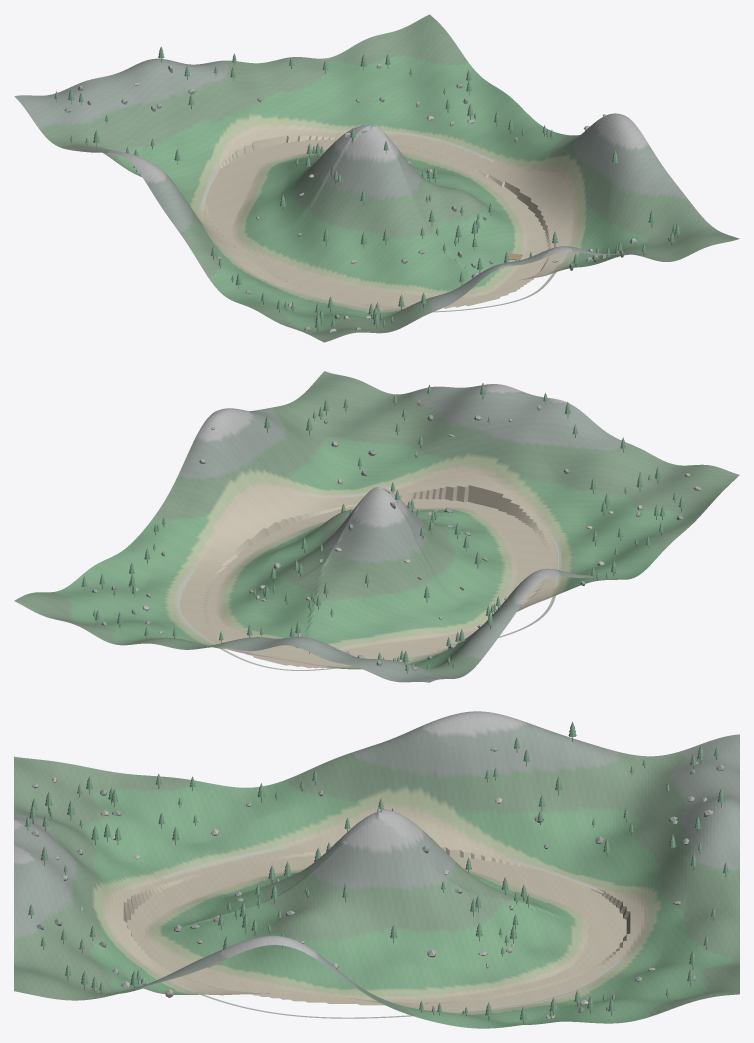
Rendered from thung-lung-song-vong-tron-3d.glb.
3 views of the same model, one above another, from view 1: azimuth 30°, elevation 25°; view 2: azimuth 150°, elevation 25°; view 3: azimuth 270°, elevation 25° (orthographic). The views are drawn at different scales.
Visible parts, largest first — view 1: Valley_Terrain_Loop_Riverbed, PineCrowns, Rocks, Closed_River_Inner_Beach; view 2: Valley_Terrain_Loop_Riverbed, PineCrowns, Rocks, Closed_River_Inner_Beach; view 3: Valley_Terrain_Loop_Riverbed, PineCrowns, Rocks, Closed_River_Inner_Beach, PineTrunks.
Part boxes in pixels (x1=…): Valley_Terrain_Loop_Riverbed: x1=14, y1=14, x2=739, y2=342; PineCrowns: x1=54, y1=46, x2=680, y2=328; Rocks: x1=64, y1=64, x2=670, y2=332; Closed_River_Inner_Beach: x1=200, y1=130, x2=569, y2=312; Valley_Terrain_Loop_Riverbed: x1=14, y1=371, x2=739, y2=682; PineCrowns: x1=81, y1=383, x2=684, y2=670; Rocks: x1=92, y1=400, x2=700, y2=670; Closed_River_Inner_Beach: x1=175, y1=493, x2=561, y2=670; Valley_Terrain_Loop_Riverbed: x1=14, y1=711, x2=739, y2=1028; PineCrowns: x1=25, y1=722, x2=728, y2=1020; Rocks: x1=31, y1=748, x2=724, y2=1018; Closed_River_Inner_Beach: x1=162, y1=846, x2=621, y2=1018; PineTrunks: x1=27, y1=737, x2=726, y2=1024.
Bounding box in the file's own units: 232 × 54.04 × 300.
